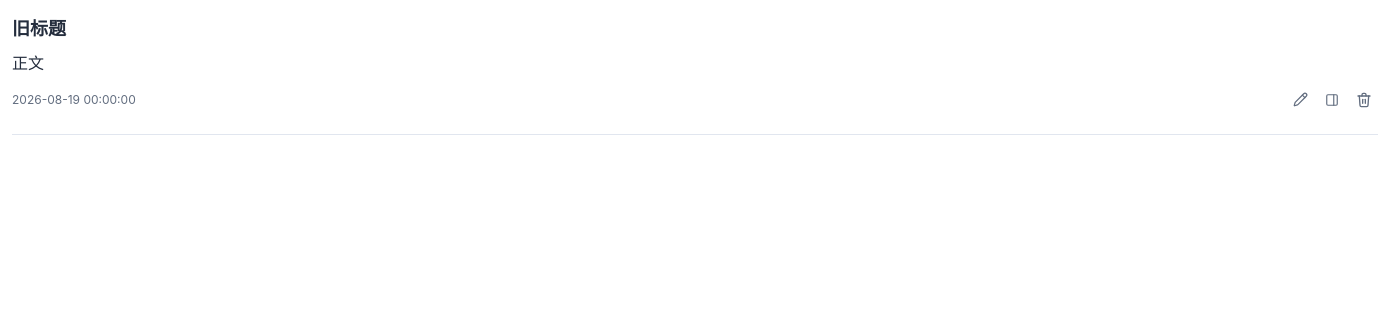
Test case: ModernNoteCard title editing › keeps the keyboard path from the body inside editing until Save or Cancel
What coordinates should you click on to do the following:
click the button with aria-label "编辑笔记标题：旧标题"
I would click on:
 (39, 28)
Its box is x1=12 y1=16 x2=1366 y2=41.
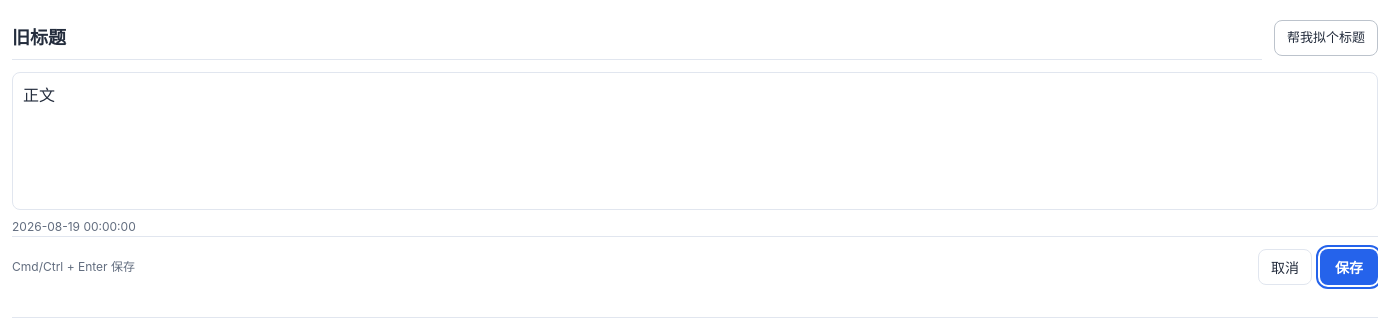
Check: the field named "笔记正文" is shown, box x1=23 y1=85 x2=55 y2=105
